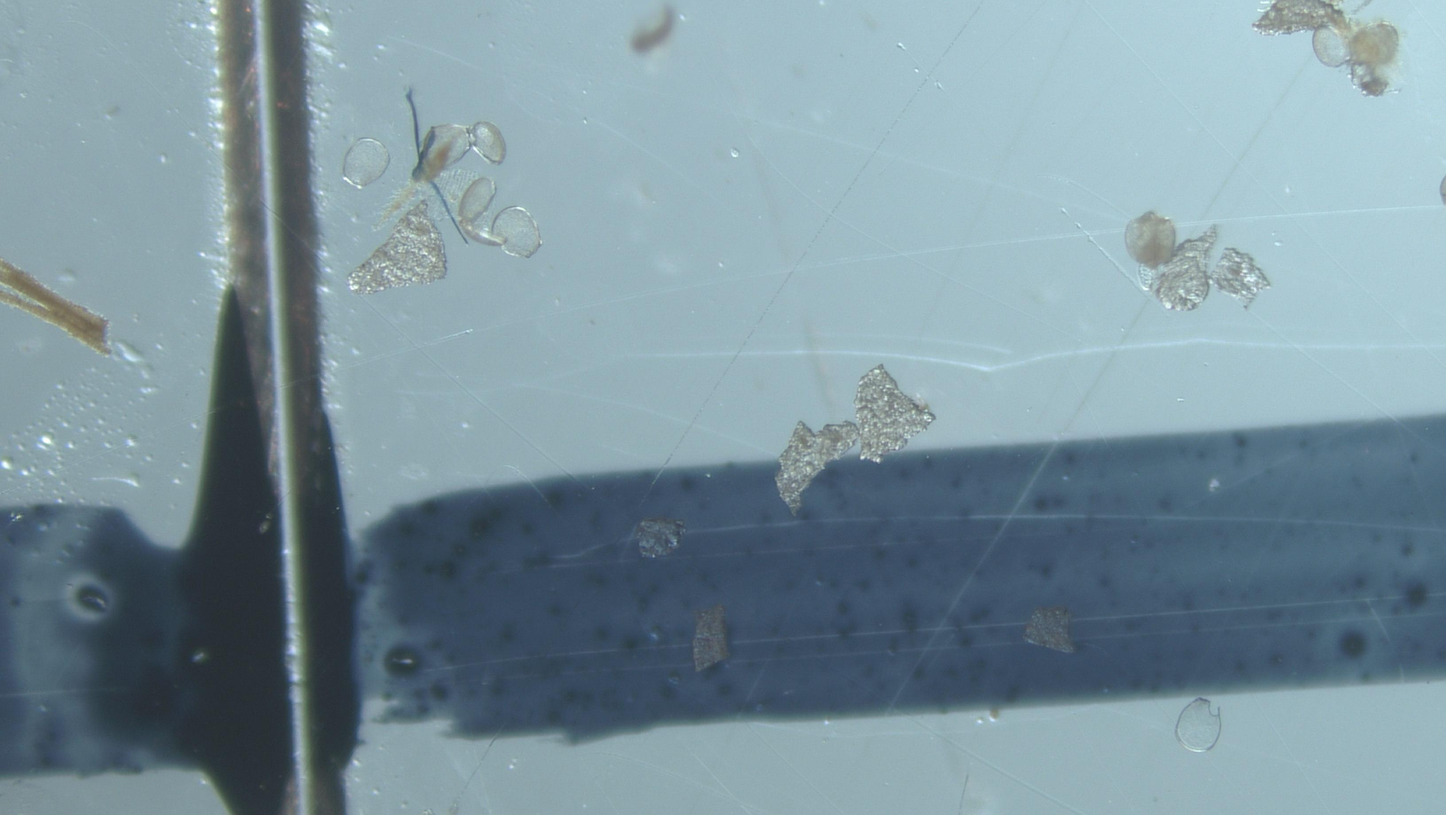dead: (491, 206, 541, 258), (1175, 698, 1221, 753), (343, 138, 390, 189)
live: (1125, 211, 1177, 269)
